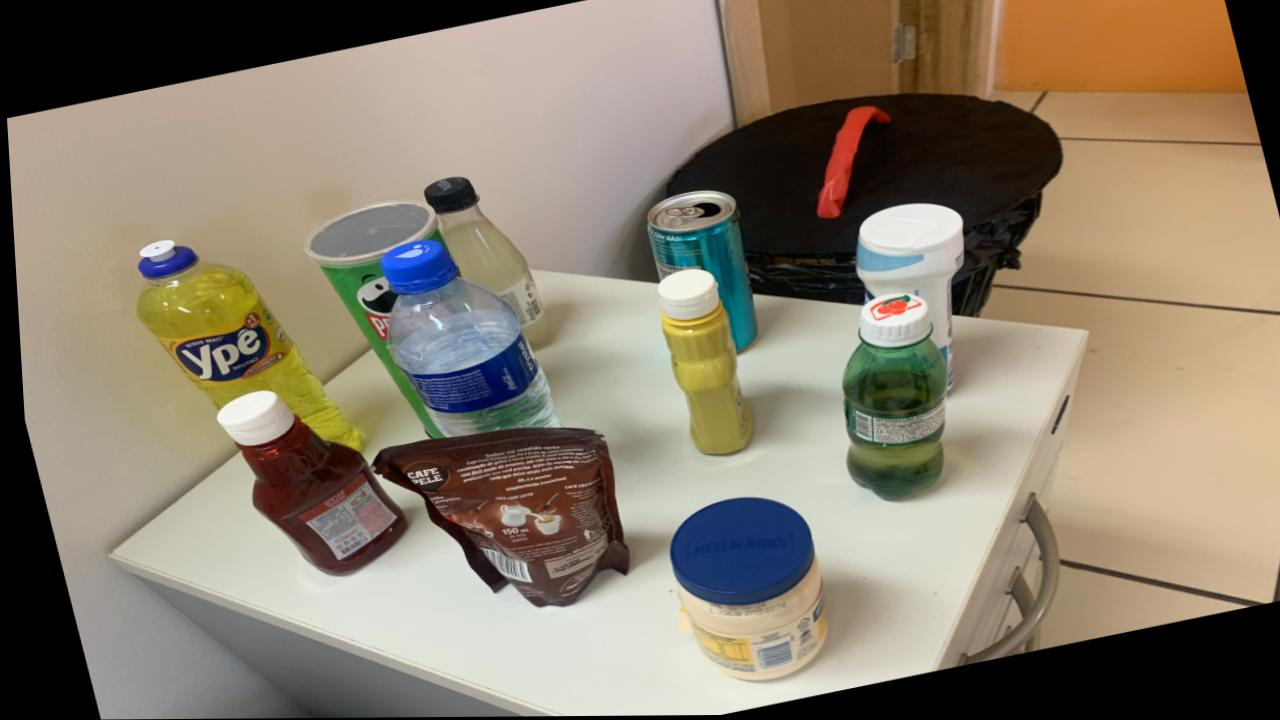Cleaner-Cleanup_Items: (851, 204, 962, 391)
Coffee-Pantry_Items: (369, 427, 622, 607)
Detergent-Cleanup_Items: (132, 240, 354, 449)
Guarana-Drinks: (837, 293, 943, 501)
Ketchup-Pantry_Items: (212, 391, 400, 575)
Mayonnaise-Pantry_Items: (662, 497, 820, 682)
Mustard-Pantry_Items: (653, 269, 748, 455)
Pringles-Snacks: (300, 199, 440, 437)
Soda-Drinks: (421, 177, 545, 347)
Tea-Drinks: (644, 190, 753, 350)
Water_Bottle-Drinks: (376, 240, 556, 438)
